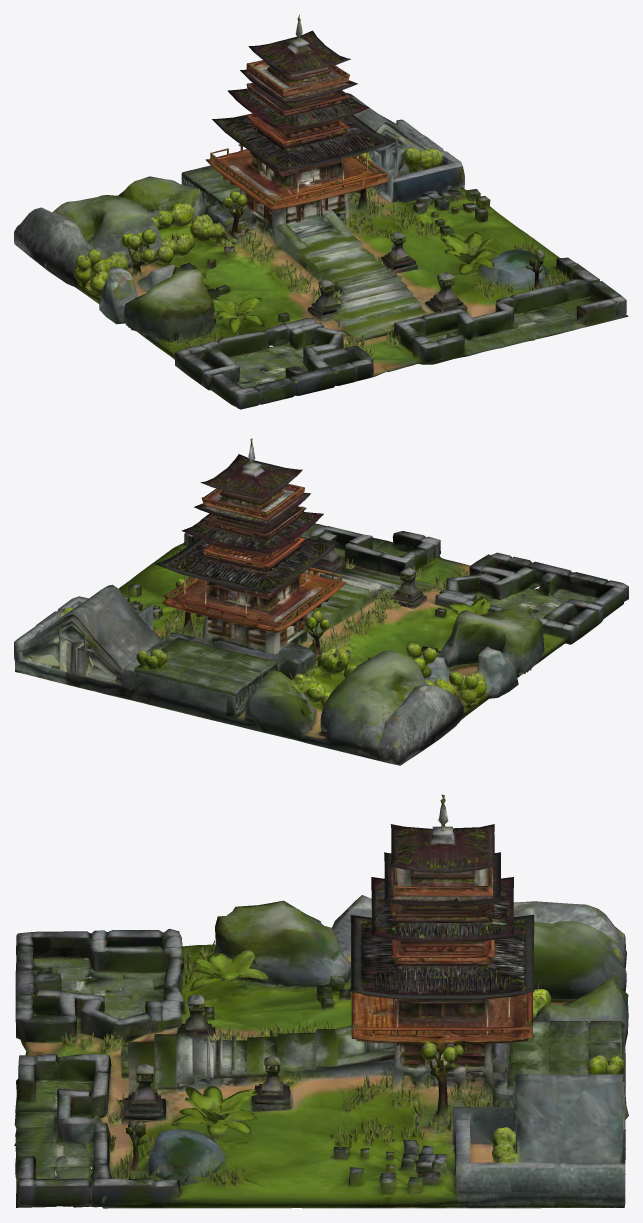
Rendered from Five_Tier_Pagoda_Gard.glb.
3 renders of one model, top to bottom at view 1: azimuth 30°, elevation 25°; view 2: azimuth 150°, elevation 25°; view 3: azimuth 270°, elevation 25°, orthographic. The views are drawn at different scales.
Parts seen in each view (by area): view 1: Five_Tier_Pagoda_Gard; view 2: Five_Tier_Pagoda_Gard; view 3: Five_Tier_Pagoda_Gard.
Part boxes in pixels (box(x1,y1,x2,y2)): Five_Tier_Pagoda_Gard: box(14, 14, 628, 409); Five_Tier_Pagoda_Gard: box(14, 438, 628, 765); Five_Tier_Pagoda_Gard: box(14, 794, 628, 1208).
Bounding box in the file's own units: 1.9 × 1.04 × 1.9.
Materials: 1 (1 with a texture image).
